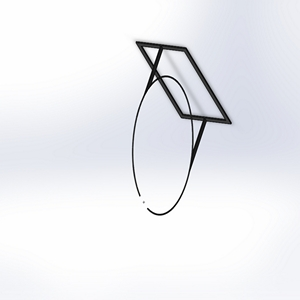circle: (130, 39, 231, 217)
